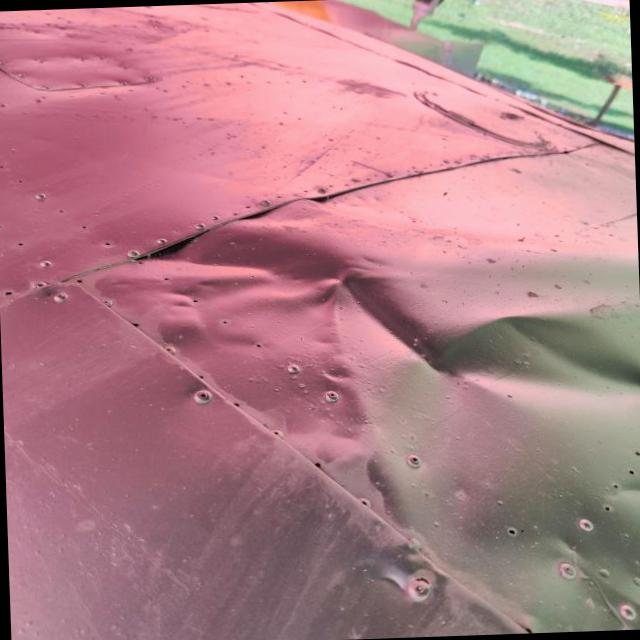dent: (82, 172, 640, 537)
